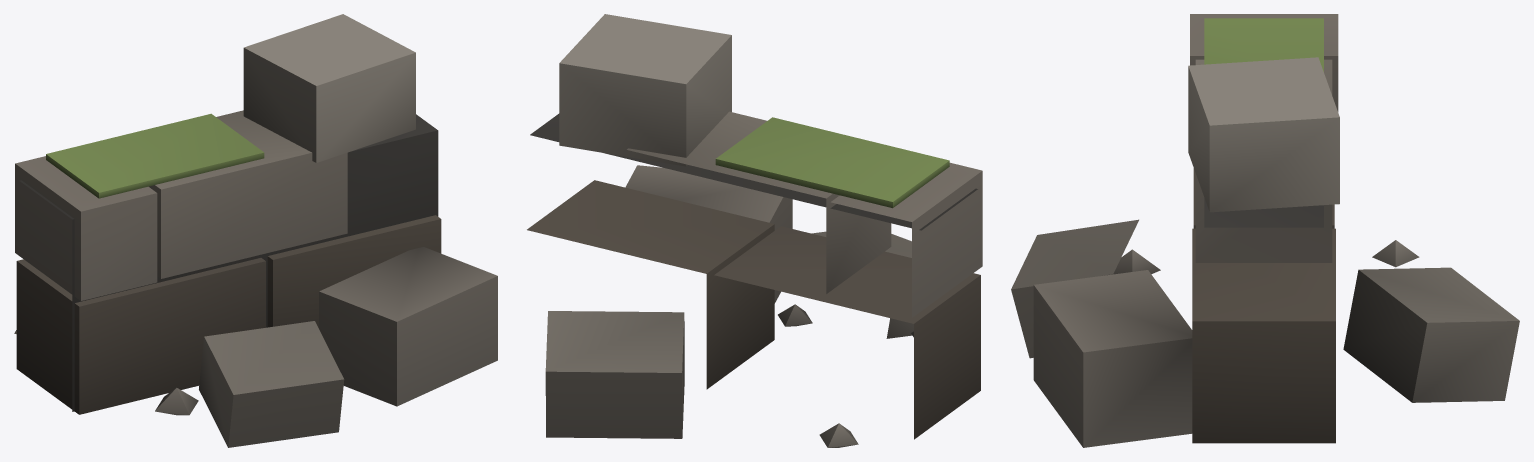
Rendered from ruins-wall-c-low.glb.
3 renders of one model, left to right at view 1: azimuth 30°, elevation 25°; view 2: azimuth 150°, elevation 25°; view 3: azimuth 270°, elevation 25°, orthographic. The views are drawn at different scales.
Parts seen in each view (by area): view 1: 0_ruins_wall_c; view 2: 0_ruins_wall_c; view 3: 0_ruins_wall_c.
Part boxes in pixels (x1,y1,x2,y2): 0_ruins_wall_c: [14, 14, 497, 447]; 0_ruins_wall_c: [527, 14, 982, 447]; 0_ruins_wall_c: [1011, 14, 1519, 447].
Bounding box in the file's own units: 2.02 × 1.47 × 2.13.
